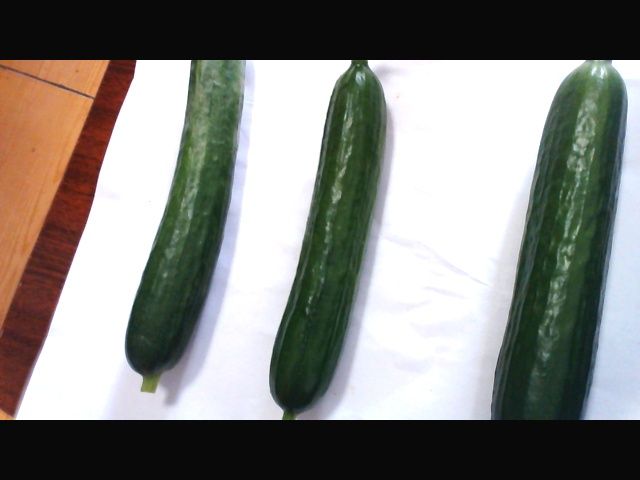cucumber: (486, 58, 634, 420), (265, 55, 387, 424), (119, 58, 250, 387)
